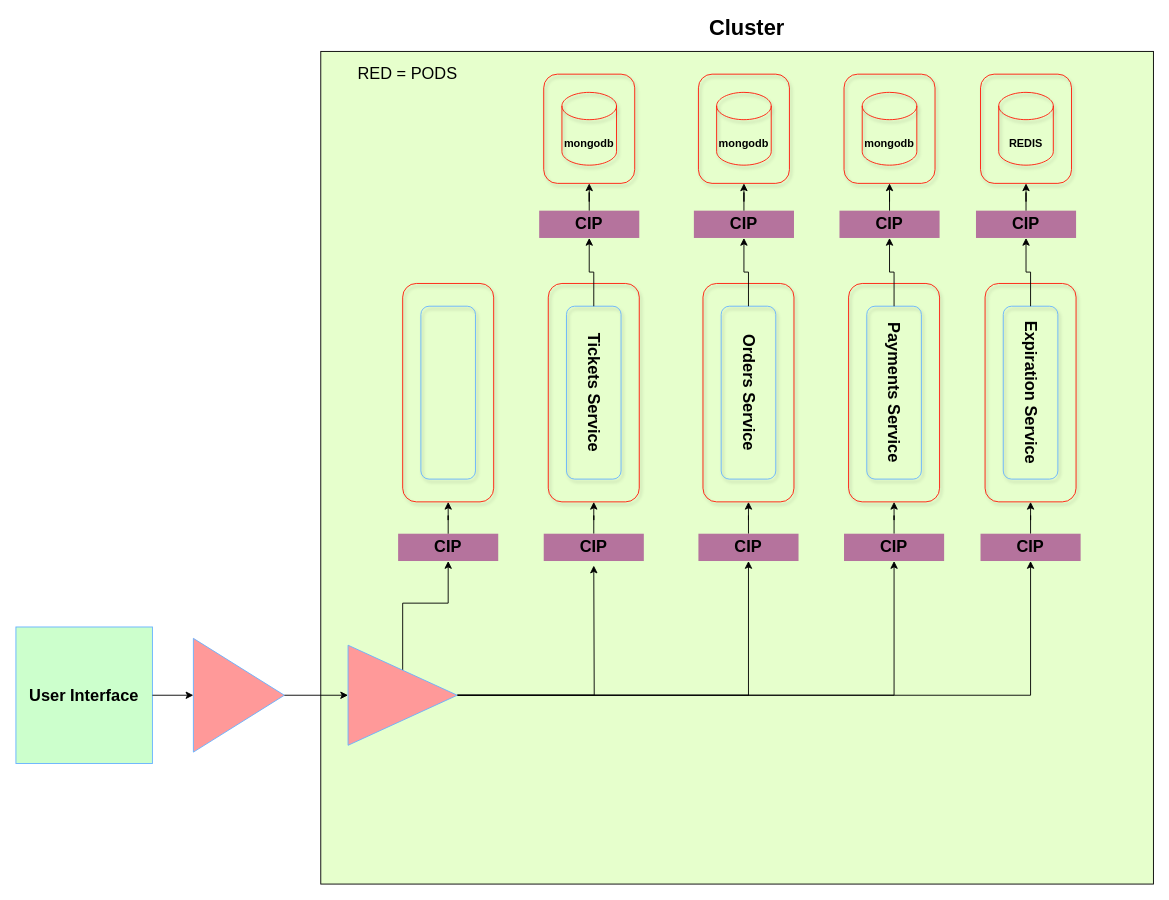
Some shapes in this 1169 by 900 pixel diagram are drawn without their labels. Each missing label, with the centre of its shape:
"Ingress Controller" belongs at pixel 402 694.
"LB" belongs at pixel 238 694.
"SSR: Next.js" belongs at pixel 448 393.
